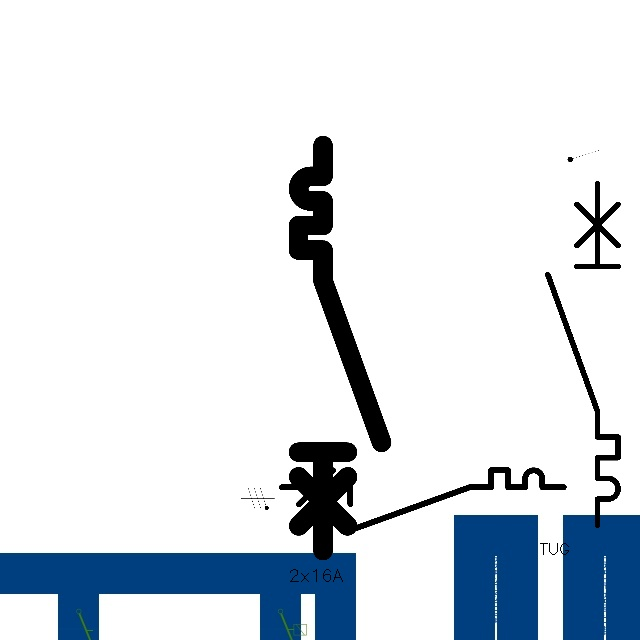interruptor_termomagnetico: (288, 135, 392, 561), (539, 174, 627, 533), (274, 463, 570, 535)
